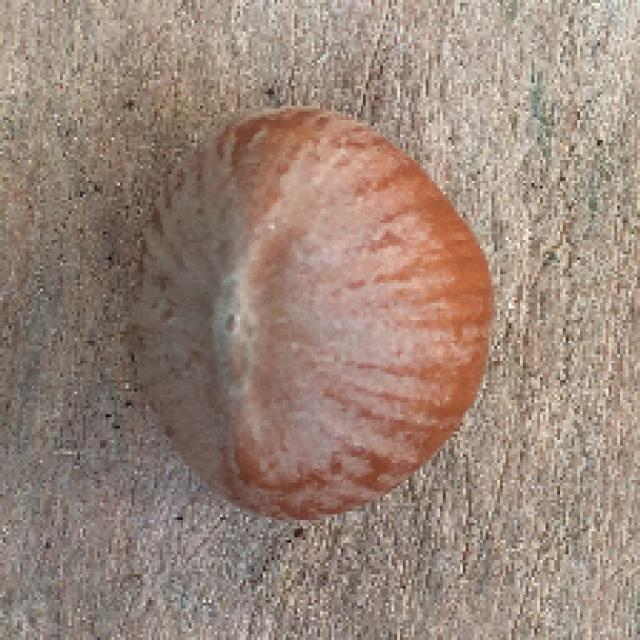qualityHazelnut: (132, 108, 498, 517)
